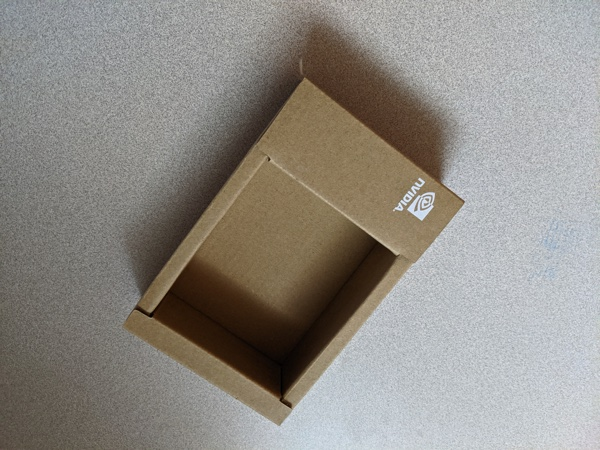cardboard: (104, 68, 479, 435)
